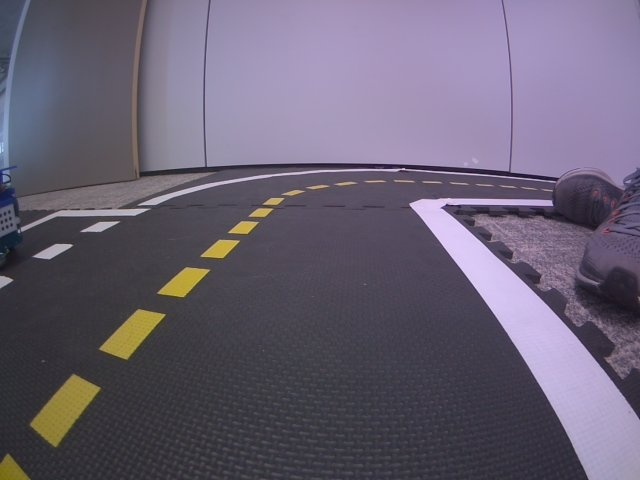Bot: (0, 162, 20, 270)
occupiedSlot: (0, 208, 149, 294)
